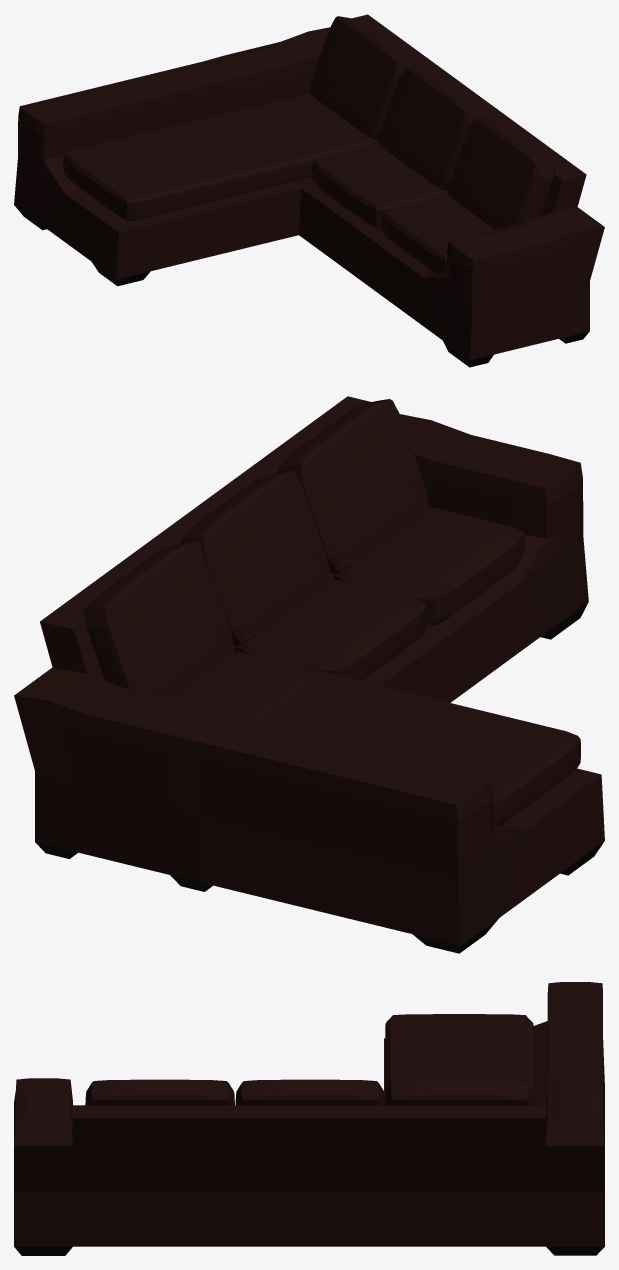
The model's file is sofa2.FBX.
The picture shows the model from 3 angles, top to bottom: view 1: azimuth 30°, elevation 25°; view 2: azimuth 150°, elevation 25°; view 3: azimuth 270°, elevation 25°; orthographic projection. The views are drawn at different scales.
Visible parts, largest first — view 1: Cubo.005; view 2: Cubo.005; view 3: Cubo.005.
Part boxes in pixels (x1,y1,x2,y2): Cubo.005: (14,14,604,367); Cubo.005: (14,396,604,953); Cubo.005: (14,982,604,1255).
Bounding box in the file's own units: 268 × 124 × 389.
